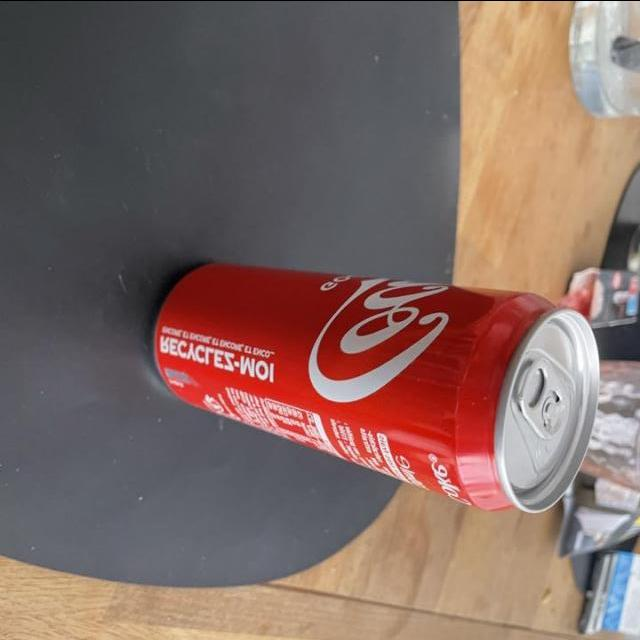can: (136, 222, 615, 528)
